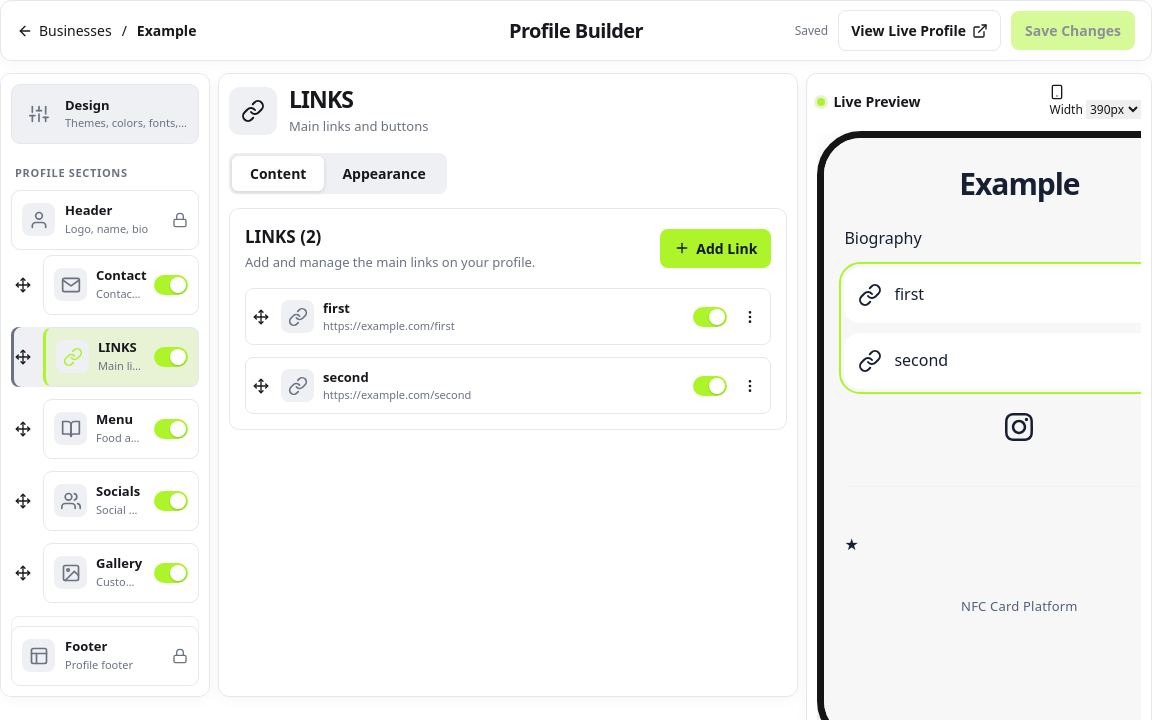
Test: approved Builder regions with real sortable rows and public renderer › edits Socials centrally and retains the link draft on return
The image size is (1152, 720).
Click the button "Socials Social media links" at (99, 501), box [54, 484, 144, 518]
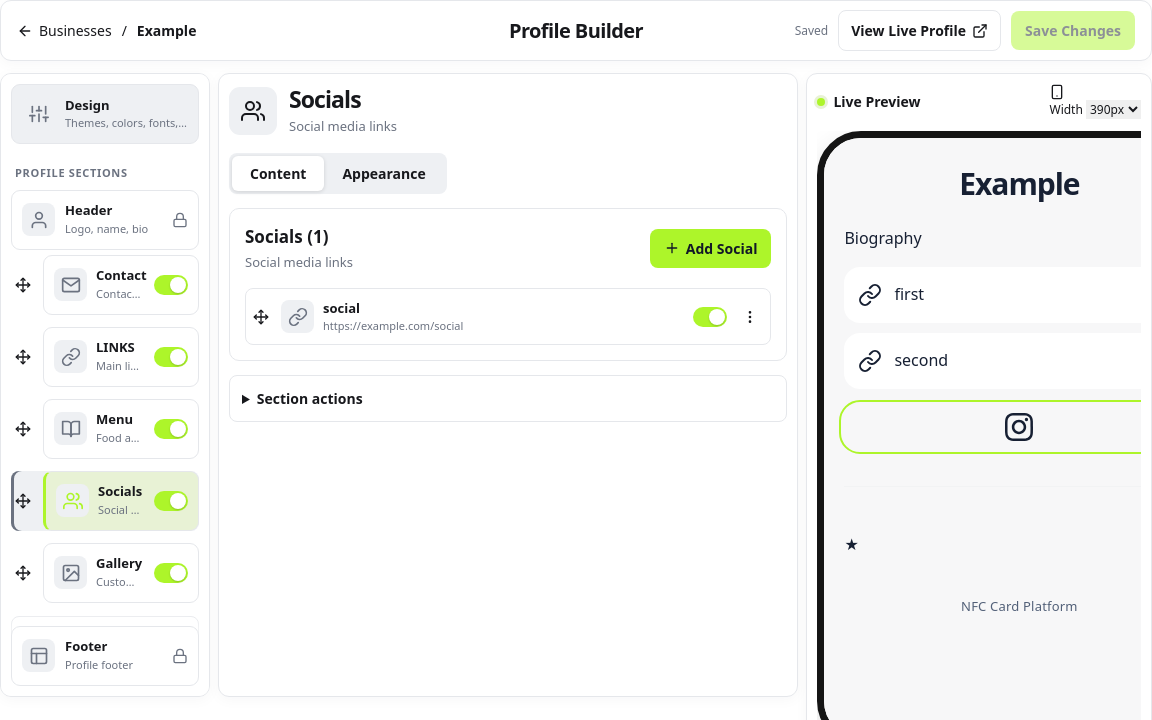
Check: the button "social https://example.com/social" is shown
Click the button "social https://example.com/social" at (298, 317), box [281, 300, 683, 334]
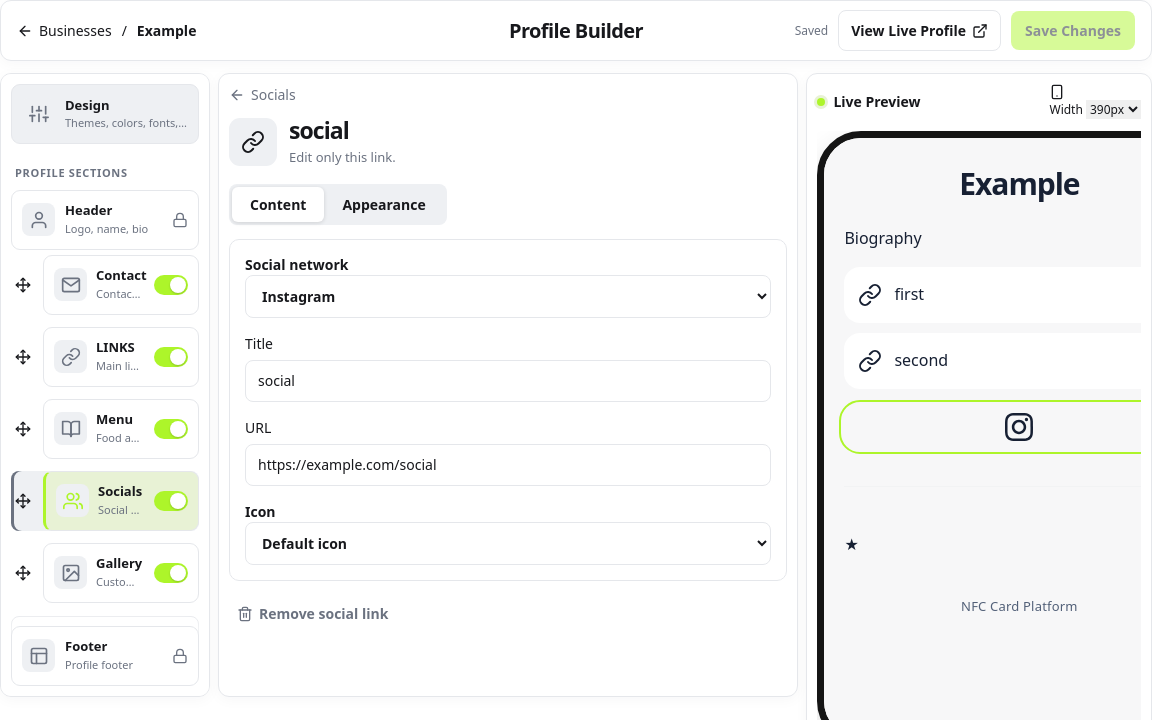
Check: the label "Title" is shown, box [245, 334, 771, 402]
Replace the text in the field labelled "Title" with "Draft" at (508, 381), box [245, 360, 771, 402]
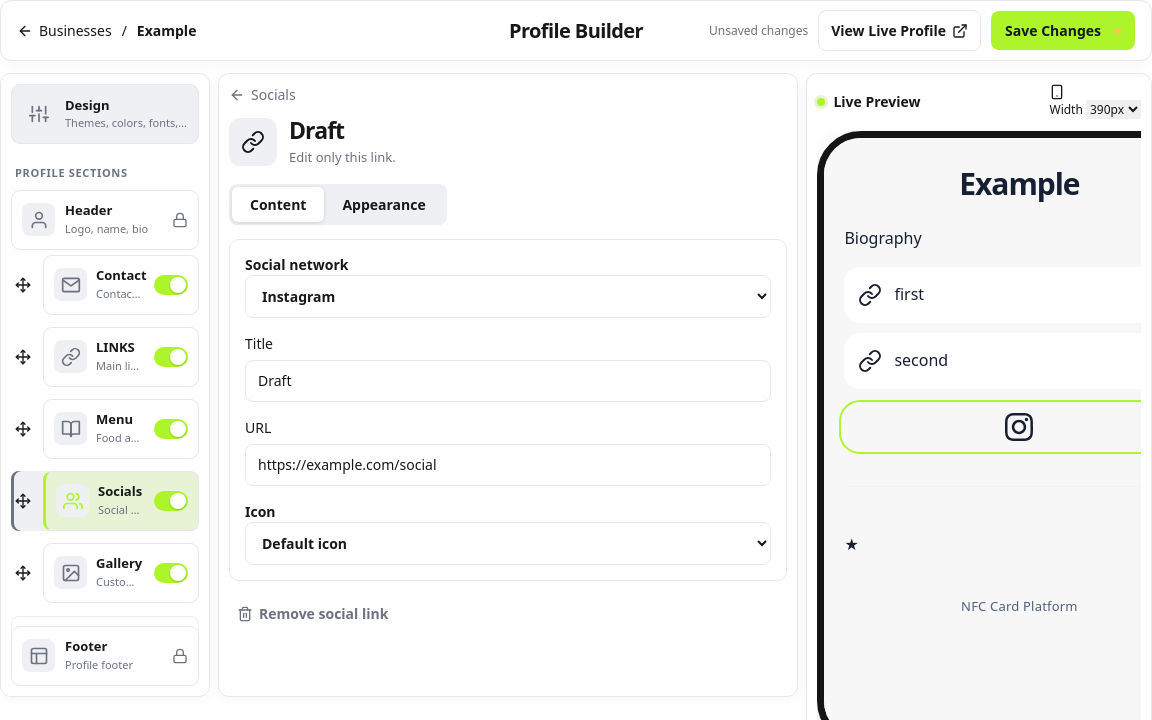
Click the button "Header Logo, name, bio" at (105, 220), box [11, 190, 199, 250]
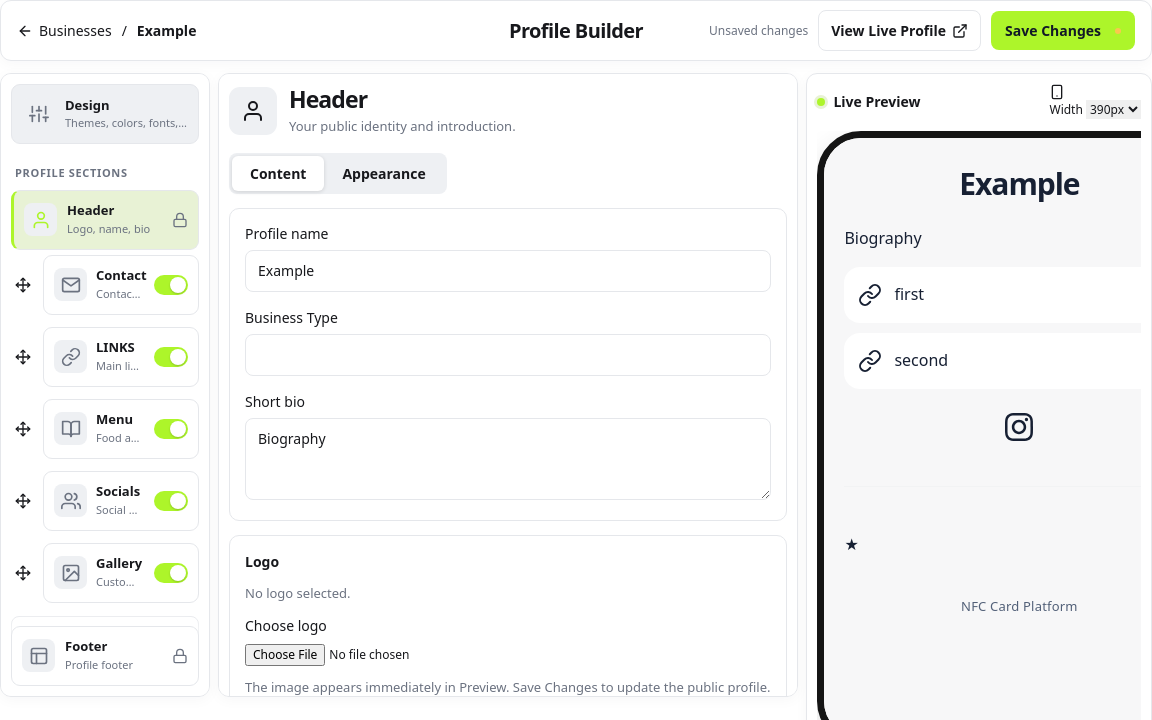
Click the button "Socials Social media links" at (99, 501), box [54, 484, 144, 518]
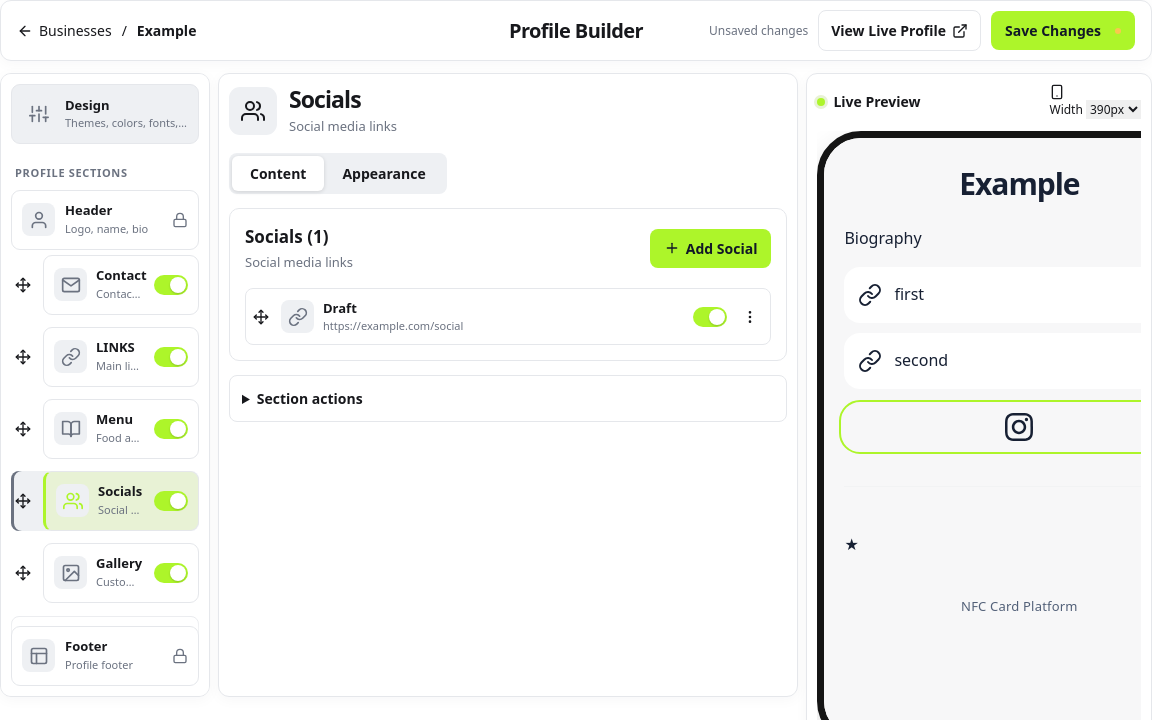
Check: the button "Draft https://example.com/social" is shown
Click the button "Draft https://example.com/social" at (298, 317), box [281, 300, 683, 334]
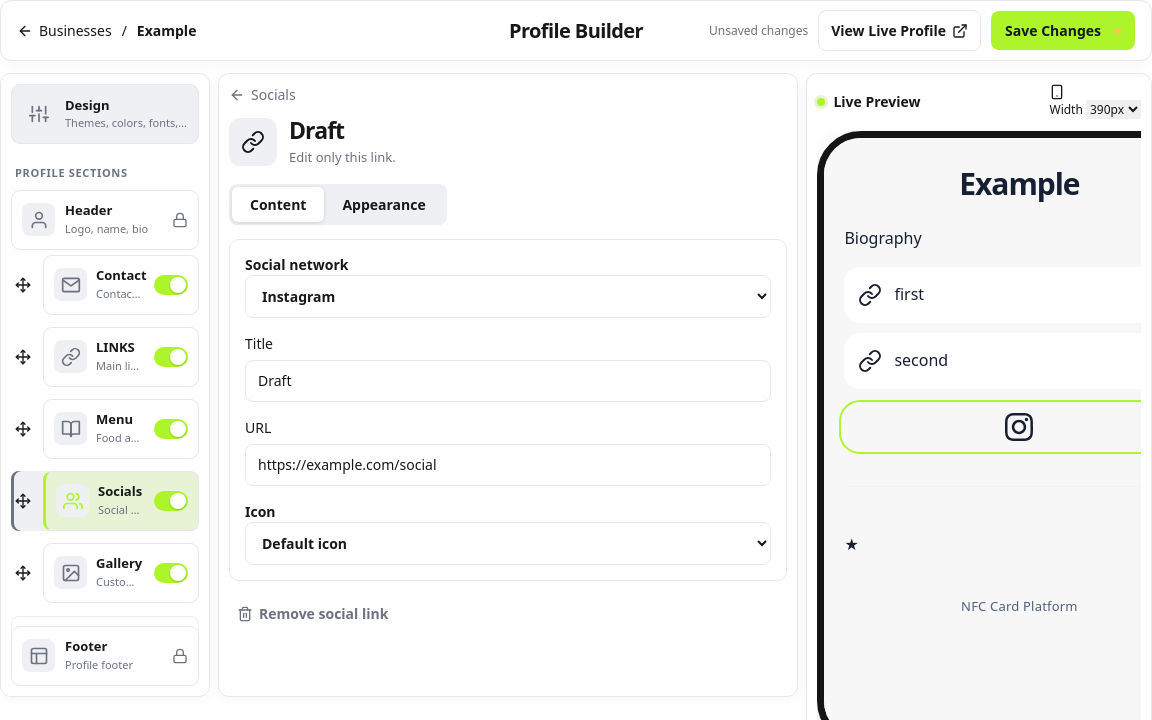
Check: the heading "Draft" is shown, box [289, 114, 344, 146]
